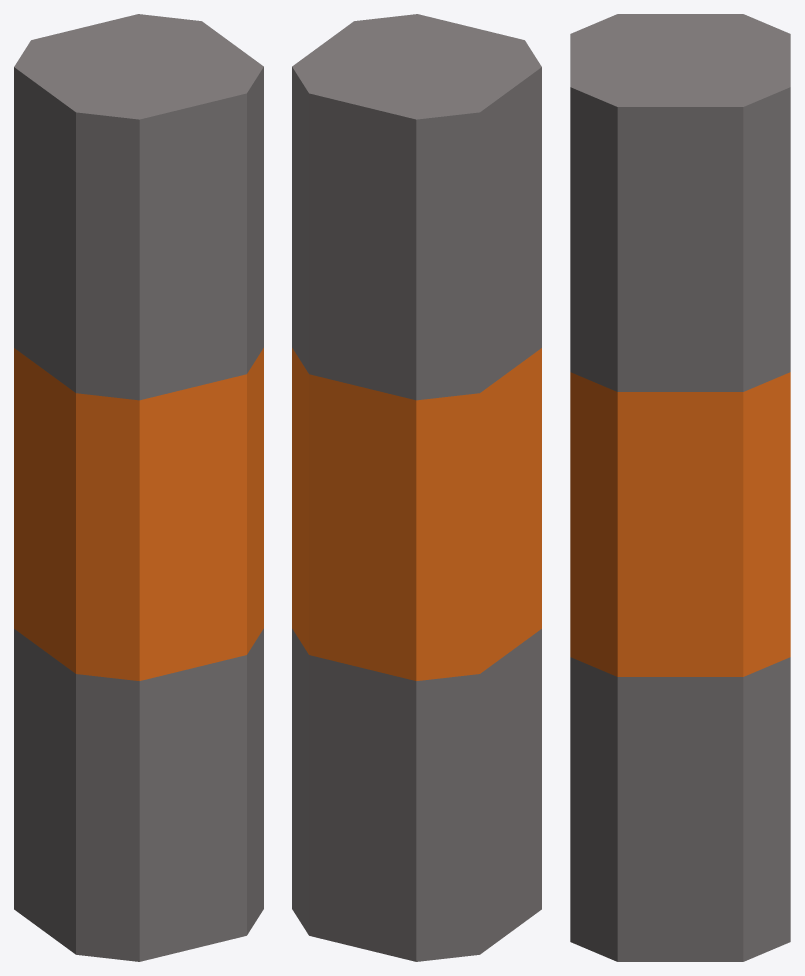
Rendered from scifi-pillar-stripe.glb.
3 renders of one model, left to right at view 1: azimuth 30°, elevation 25°; view 2: azimuth 150°, elevation 25°; view 3: azimuth 270°, elevation 25°, orthographic.
Parts seen in each view (by area): view 1: scifi-pillar-stripe; view 2: scifi-pillar-stripe; view 3: scifi-pillar-stripe.
Part boxes in pixels (x1,y1,x2,y2): scifi-pillar-stripe: (14,14,263,961); scifi-pillar-stripe: (292,14,541,961); scifi-pillar-stripe: (570,14,790,961).
Bounding box in the file's own units: 0.7003 × 3 × 0.7003.
1 material, 1 textured.
